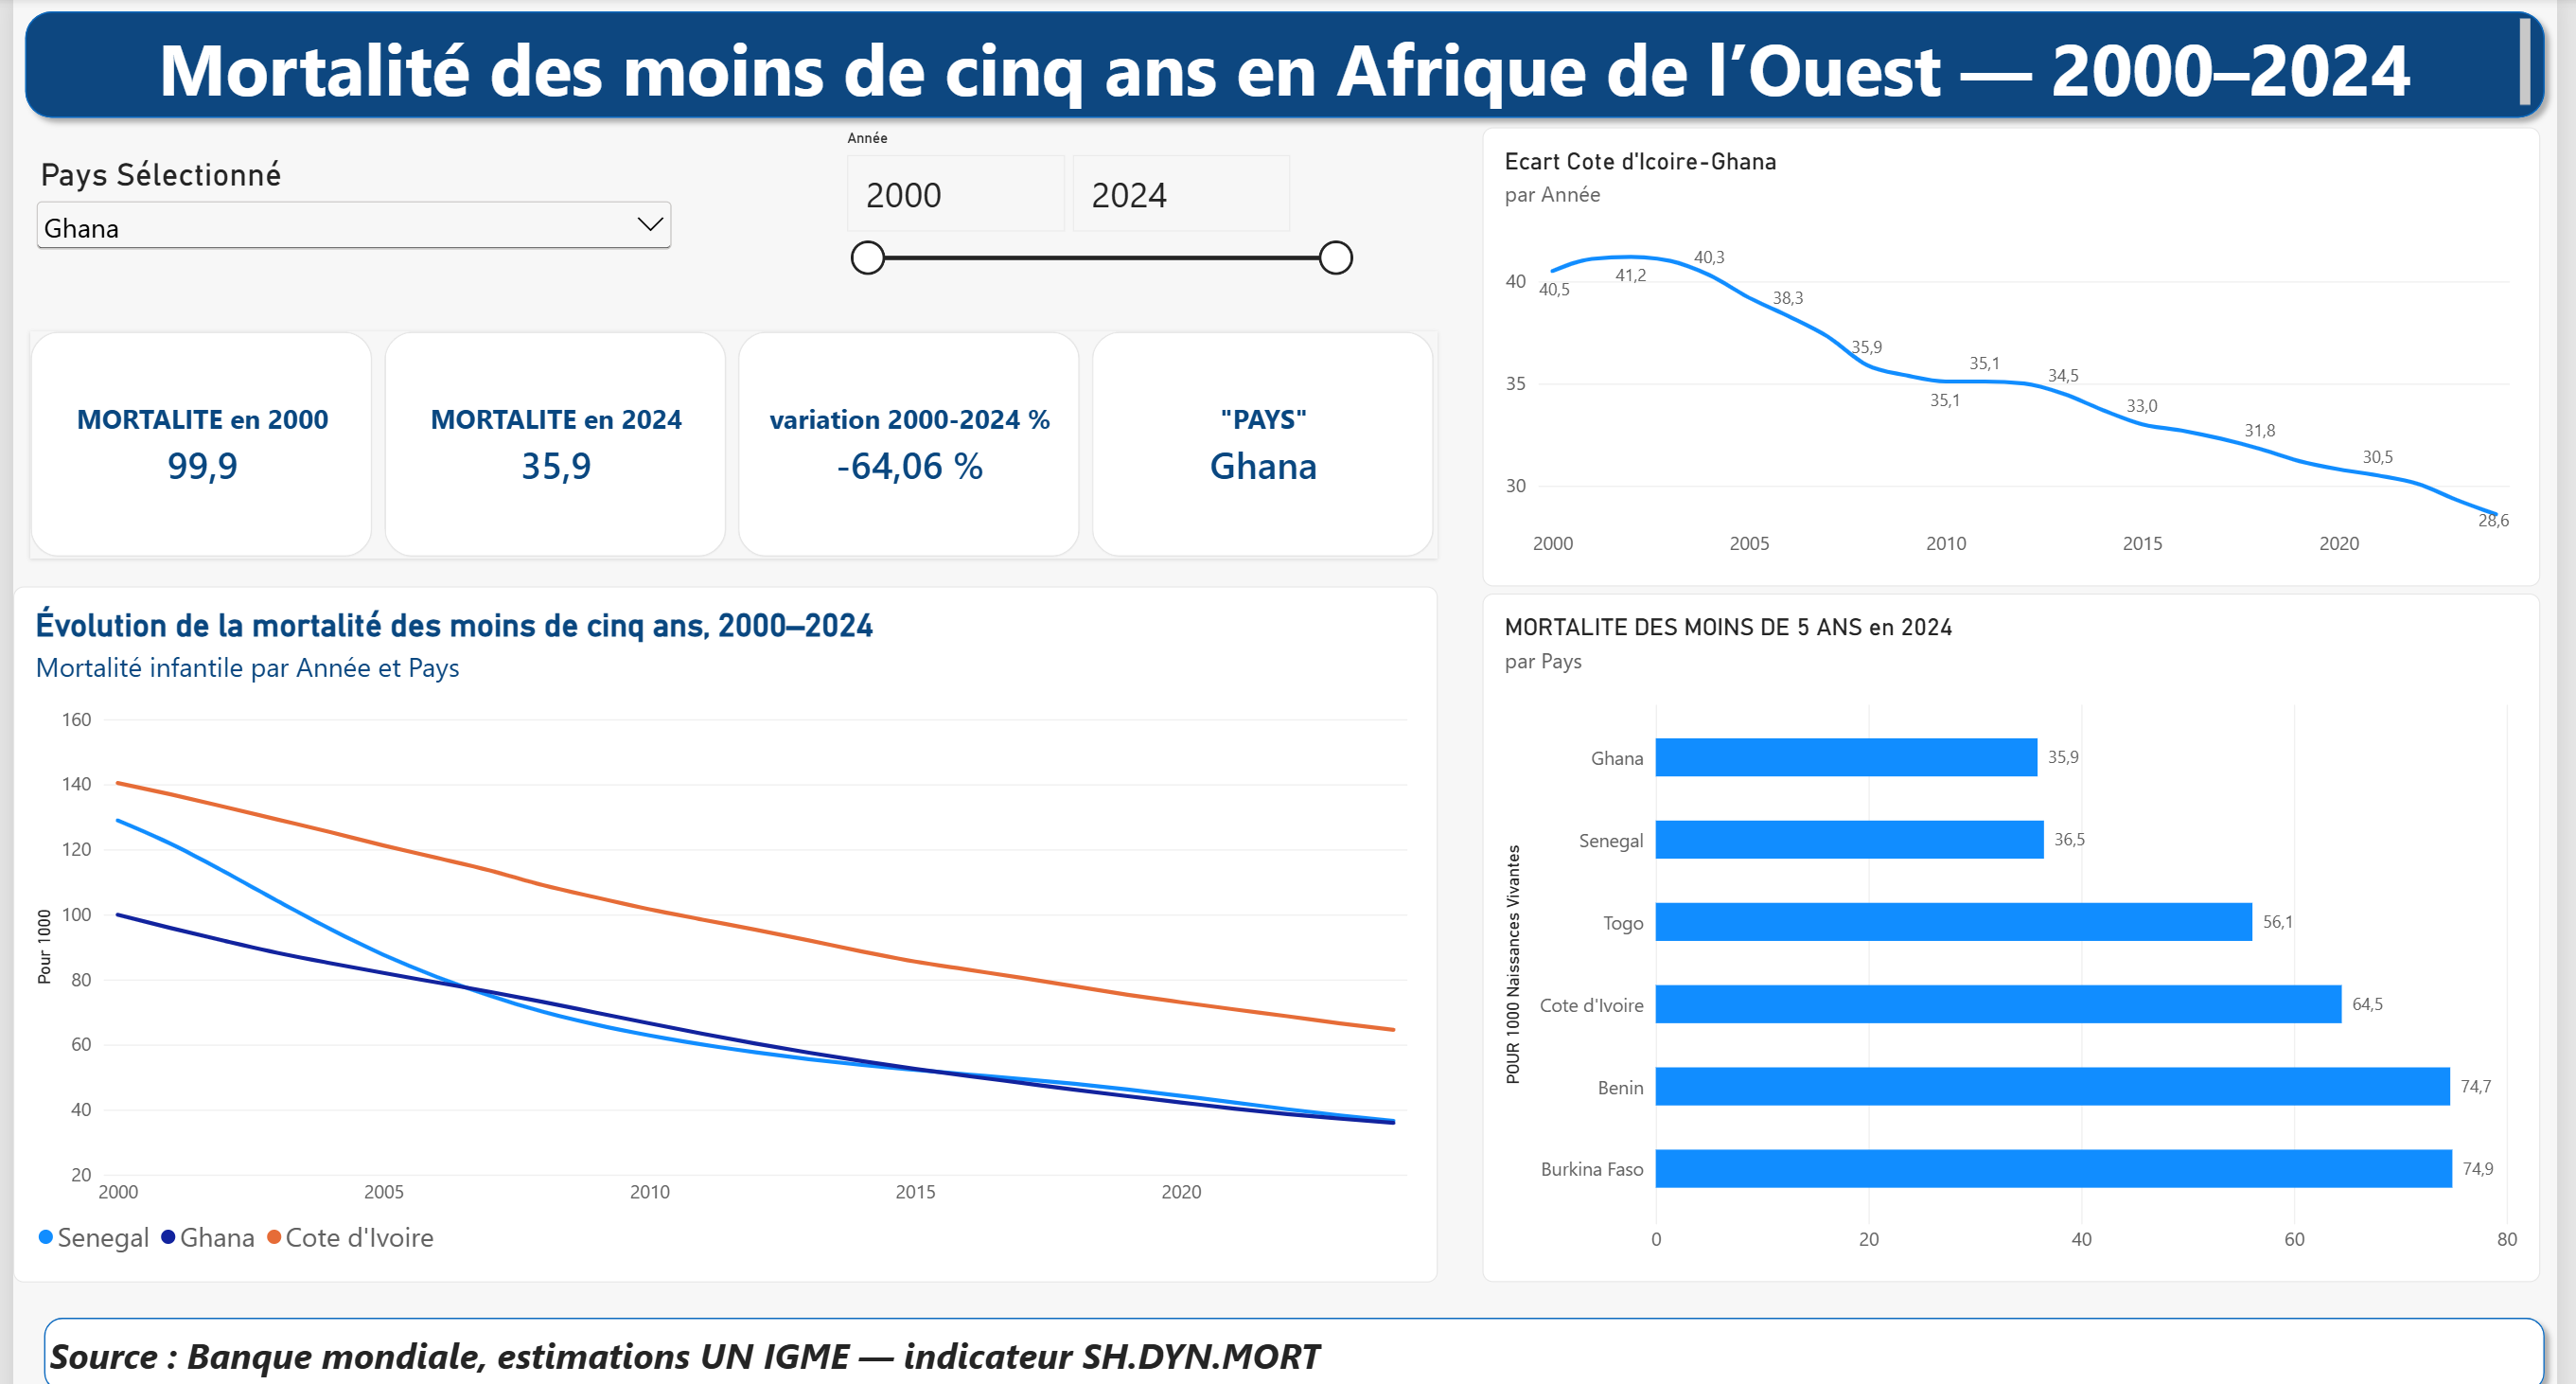

The page's visual inventory and layout, read from the dashboard file:
{"tool":"powerbi","page":{"name":"vue d'ensemble","canvas":[1920,1080],"ordinal":0},"visuals":[{"type":"slicer","fields":{"Values":["'Mortalé <5 ans 2000-2024$'DonnéesExternes_2.Année"]},"box":[621.4,100,392.9,130.4],"z":0},{"type":"lineChart","fields":{"Y":["'Mortalité <5 ans 2000-2024.Ecart civ-Gha"],"Category":["'Mortalité <5 ans 2000-2024.Année"]},"box":[1108.9,98.2,798.2,346.4],"z":1000},{"type":"slicer","fields":{"Values":["'Mortalité <5 ans 2000-2024.Pays"]},"box":[12.5,119.6,489.3,110.7],"z":2000},{"type":"cardVisual","fields":{"Data":["'Mortalité <5 ans 2000-2024.SH.DYN.MORT 2000","'Mortalité <5 ans 2000-2024.SH.DYN.MORT 2024","'Mortalité <5 ans 2000-2024.% de variation 2000-2024","'Mortalité <5 ans 2000-2024.\"PAYS\""]},"box":[12.5,251.8,1062.5,171.4],"z":3000},{"type":"lineChart","title":"Évolution de la mortalité des moins de cinq ans, 2000–2024","fields":{"Category":["'Mortalité <5 ans 2000-2024.Année"],"Series":["'Mortalité <5 ans 2000-2024.Pays"],"Y":["Avg('Mortalité <5 ans 2000-2024.SH.DYN.MORT)"]},"box":[0,444.6,1075,525],"z":4000},{"type":"barChart","fields":{"Category":["'Mortalité <5 ans 2000-2024.Pays"],"Y":["Avg('Mortalité <5 ans 2000-2024.SH.DYN.MORT)"]},"box":[1108.9,450,798.2,519.6],"z":5000},{"type":"shape","box":[0,1.8,1919.7,98.2],"z":6000,"group":"g1"},{"type":"shape","box":[14.3,987.5,1905.4,73.2],"z":6000},{"type":"group","id":"g1","title":"Groupe 1","box":[0,1.8,1919.7,98.2],"z":7000},{"type":"textbox","box":[26.8,16.1,1873.2,67.9],"z":7000,"group":"g1"}]}

Visuals, with their boxes on the page's 1920x1080 design canvas (x1, y1, x2, y2). These are canvas units, not pixel positions in the 2576x1384 screenshot, which may show the page scaled, cropped or inside an application window:
slicer - 'Mortalé <5 ans 2000-2024$'DonnéesExternes_2.Année: (621,100,1014,230)
lineChart - 'Mortalité <5 ans 2000-2024.Ecart civ-Gha x 'Mortalité <5 ans 2000-2024.Année: (1109,98,1907,445)
slicer - 'Mortalité <5 ans 2000-2024.Pays: (12,120,502,230)
cardVisual - 'Mortalité <5 ans 2000-2024.SH.DYN.MORT 2000 x 'Mortalité <5 ans 2000-2024.SH.DYN.MORT 2024: (12,252,1075,423)
"Évolution de la mortalité des moins de cinq ans, 2000–2024" lineChart: (0,445,1075,970)
barChart - 'Mortalité <5 ans 2000-2024.Pays x Avg('Mortalité <5 ans 2000-2024.SH.DYN.MORT): (1109,450,1907,970)
shape: (0,2,1920,100)
shape: (14,988,1920,1061)
"Groupe 1" group: (0,2,1920,100)
textbox: (27,16,1900,84)
